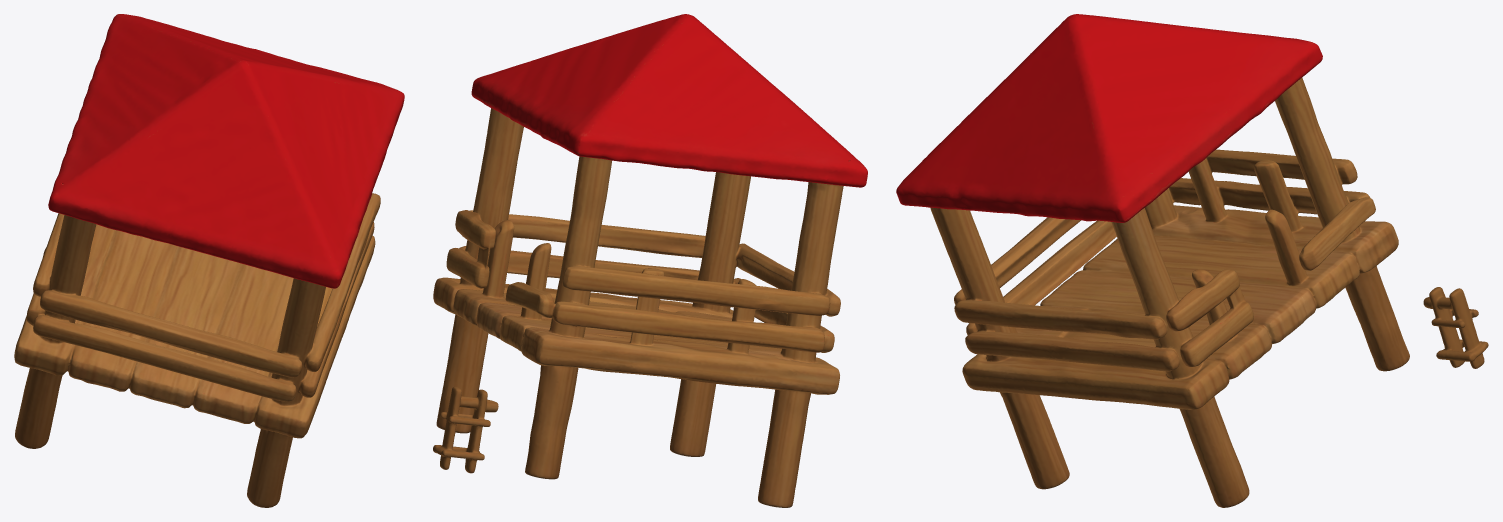
The model's file is tower_red.glb.
3 renders of one model, left to right at view 1: azimuth 30°, elevation 25°; view 2: azimuth 150°, elevation 25°; view 3: azimuth 270°, elevation 25°, orthographic. The views are drawn at different scales.
Size of the model in its own units: 0.7055 by 0.7869 by 0.9089.
Materials: 1 (1 with a texture image).
